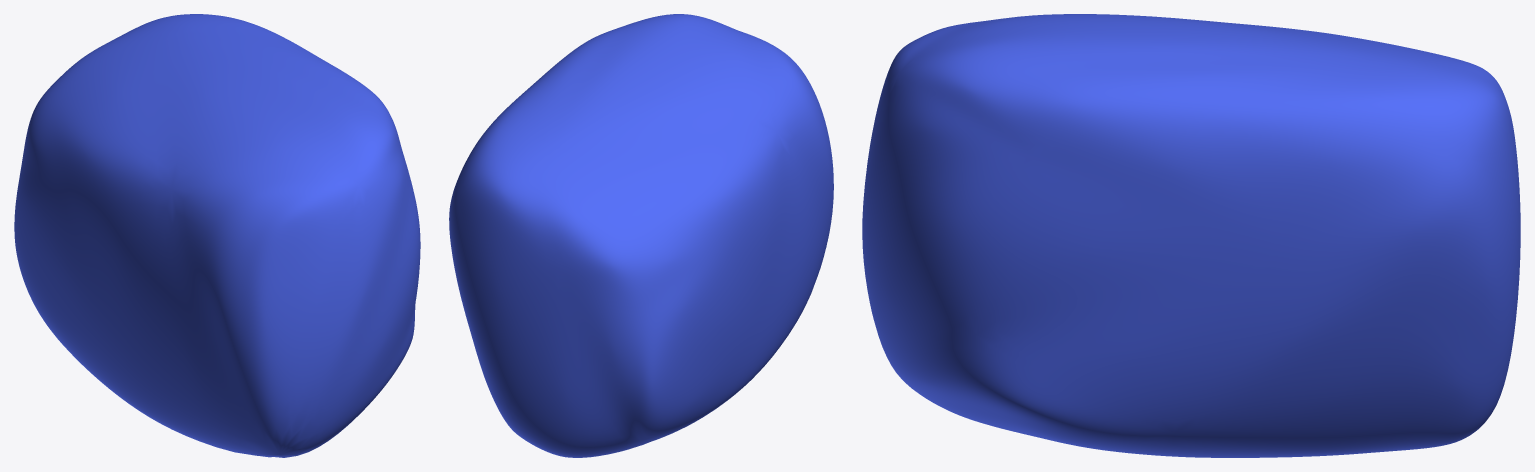
3 views of the same model, side by side, from view 1: azimuth 30°, elevation 25°; view 2: azimuth 150°, elevation 25°; view 3: azimuth 270°, elevation 25° (orthographic). The views are drawn at different scales.
Parts seen in each view (by area): view 1: CH_CF; view 2: CH_CF; view 3: CH_CF.
Boxes of the visible parts, x1,y1,x2,y2 form: CH_CF: (14, 14, 420, 457); CH_CF: (449, 14, 833, 457); CH_CF: (862, 14, 1520, 457).
Bounding box in the file's own units: 8.8 × 11.08 × 15.38.
